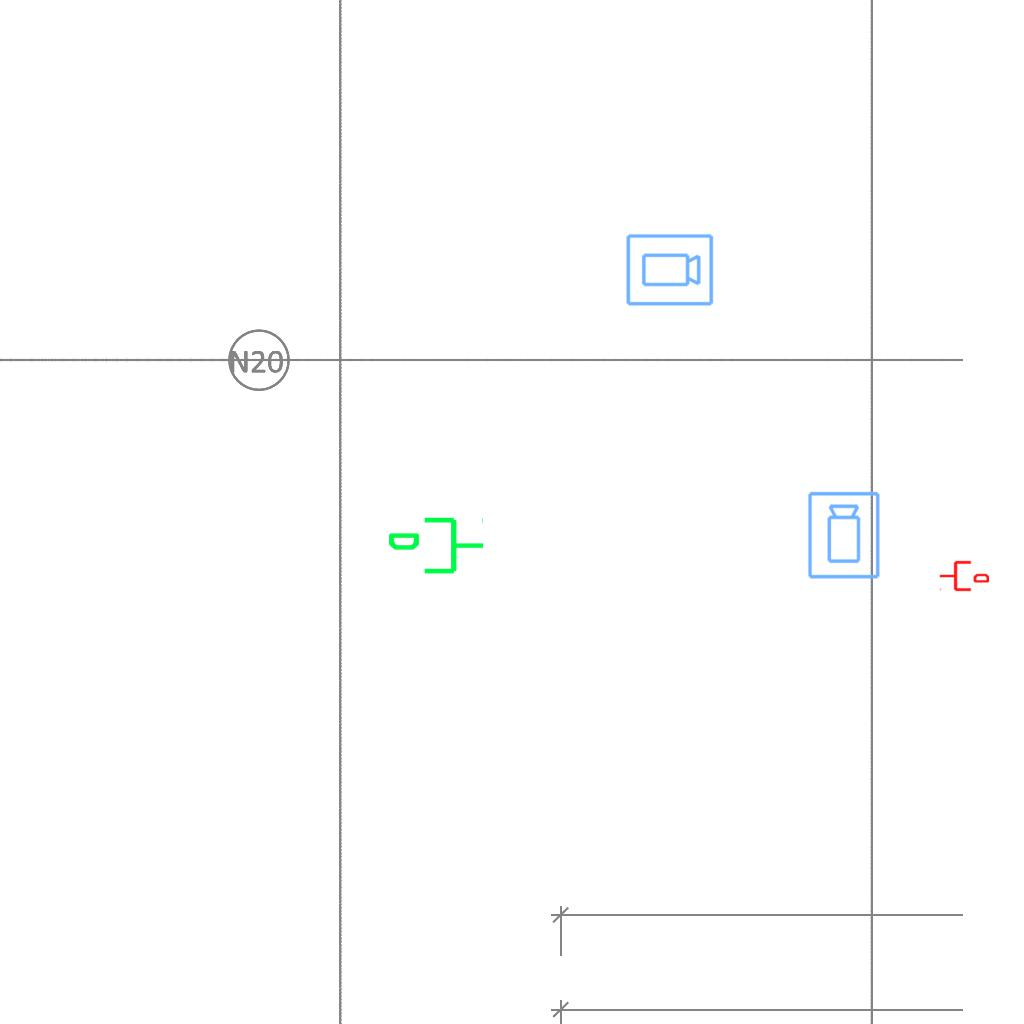Datenanschluss_einfach: (386, 513, 486, 582), (939, 559, 989, 593)
KFO_Kamera_mit_Festobjektiv: (806, 490, 883, 581), (624, 232, 715, 309)
